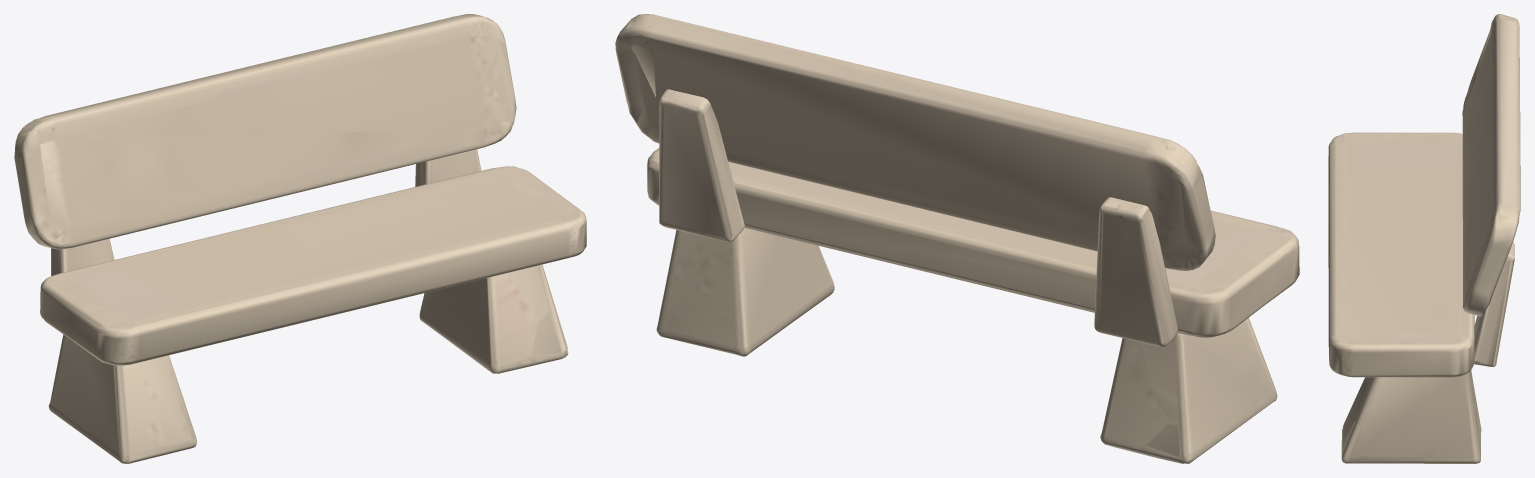
Rendered from bench.glb.
3 views of the same model, side by side, from view 1: azimuth 30°, elevation 25°; view 2: azimuth 150°, elevation 25°; view 3: azimuth 270°, elevation 25° (orthographic). The views are drawn at different scales.
Visible parts, largest first — view 1: Mesh_0; view 2: Mesh_0; view 3: Mesh_0.
Boxes of the visible parts, x1=… form: Mesh_0: x1=14, y1=14, x2=586, y2=463; Mesh_0: x1=615, y1=14, x2=1299, y2=463; Mesh_0: x1=1328, y1=14, x2=1520, y2=463.
Bounding box in the file's own units: 1.45 × 0.8001 × 0.5467.
1 material, 1 textured.
